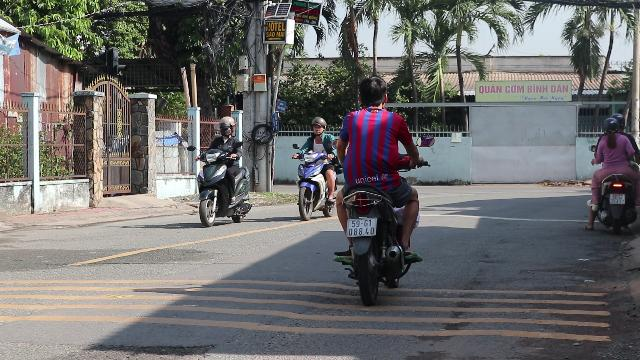helmet: (602, 114, 622, 134), (218, 116, 235, 138), (310, 116, 326, 134)
licenseplate: (348, 218, 376, 236), (610, 194, 624, 204)
motorcyclist: (330, 76, 426, 296), (193, 115, 253, 227), (584, 114, 640, 234), (292, 116, 338, 220)
nohelmet: (356, 76, 388, 110)
